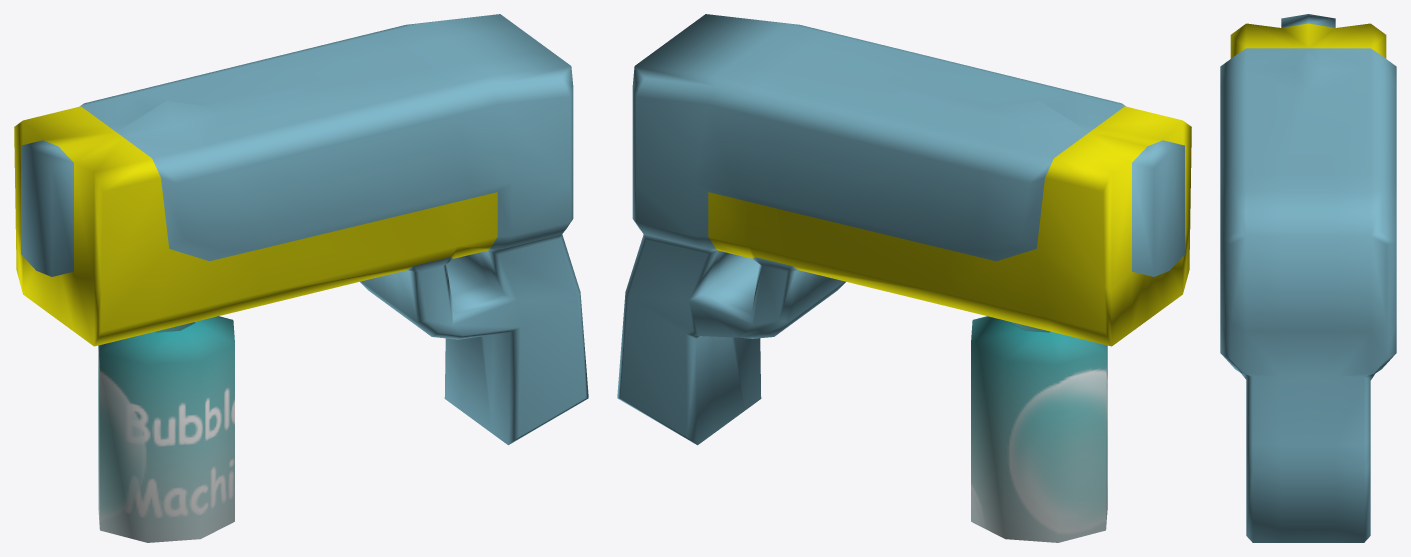
Rendered from BubbleGun.fbx.
3 views of the same model, side by side, from view 1: azimuth 30°, elevation 25°; view 2: azimuth 150°, elevation 25°; view 3: azimuth 270°, elevation 25° (orthographic). The views are drawn at different scales.
Visible parts, largest first — view 1: pCube1; view 2: pCube1; view 3: pCube1.
Boxes of the visible parts, x1,y1,x2,y2 form: pCube1: (14, 14, 588, 542); pCube1: (617, 14, 1191, 542); pCube1: (1220, 14, 1396, 542).
Bounding box in the file's own units: 7.44 × 5.65 × 2.49.
